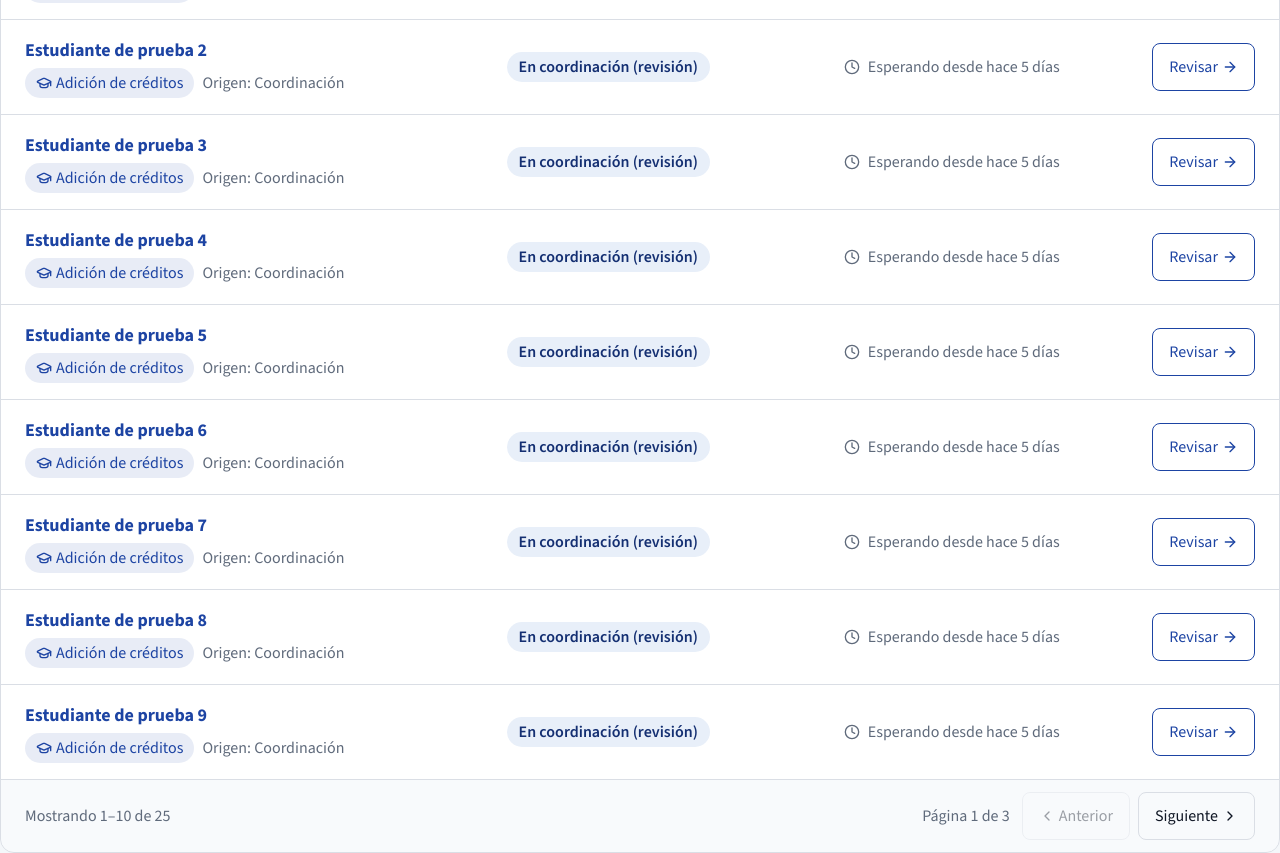
CoordinationInbox › paginación de vista › los controles son botones reales, con type="button", deshabilitados en los extremos
(page scrolled)
Expected: the button "Anterior" is disabled, [1022,792,1130,840]
Step 1. Click the button "Siguiente" → (1196, 816), box [1138,792,1255,840]
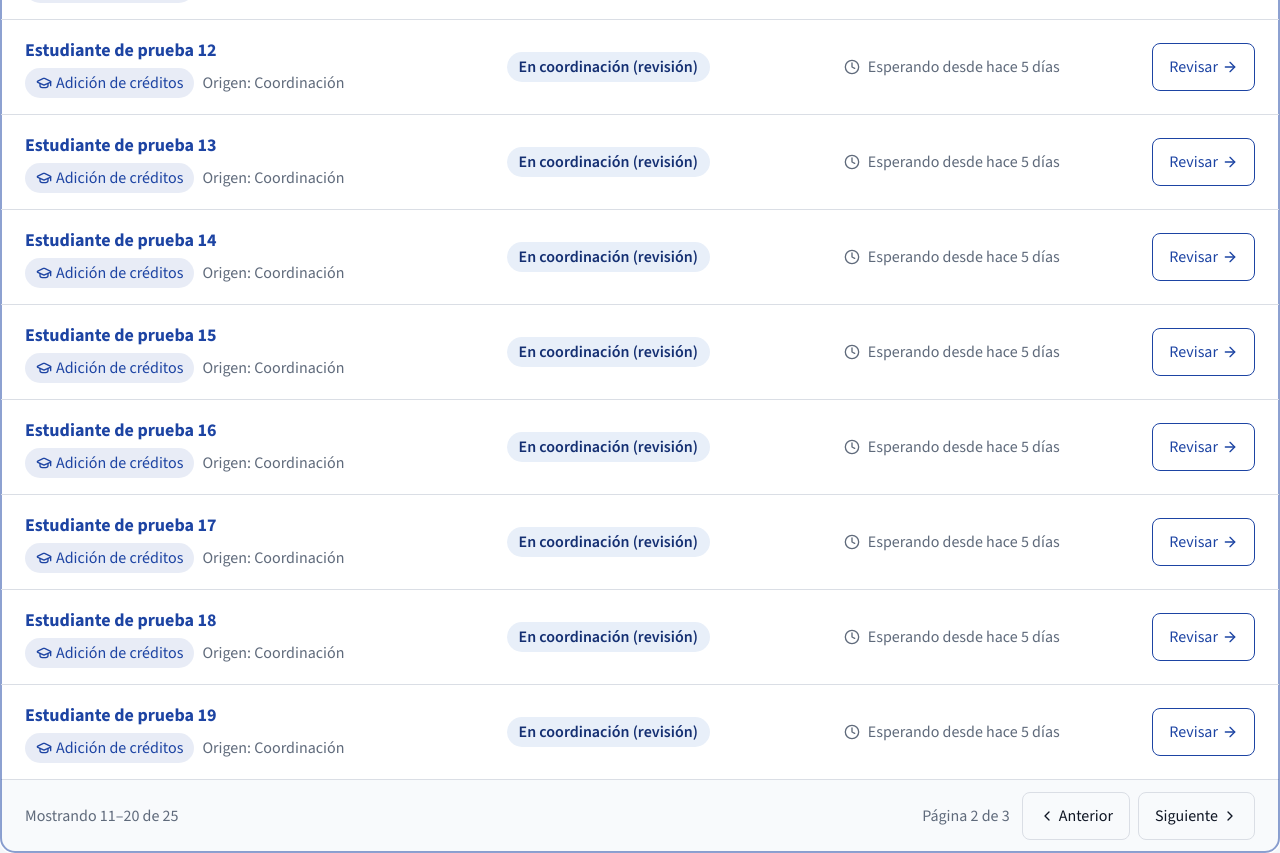
Step 2. Click the button "Siguiente" → (1196, 816), box [1138,792,1255,840]
(page scrolled)
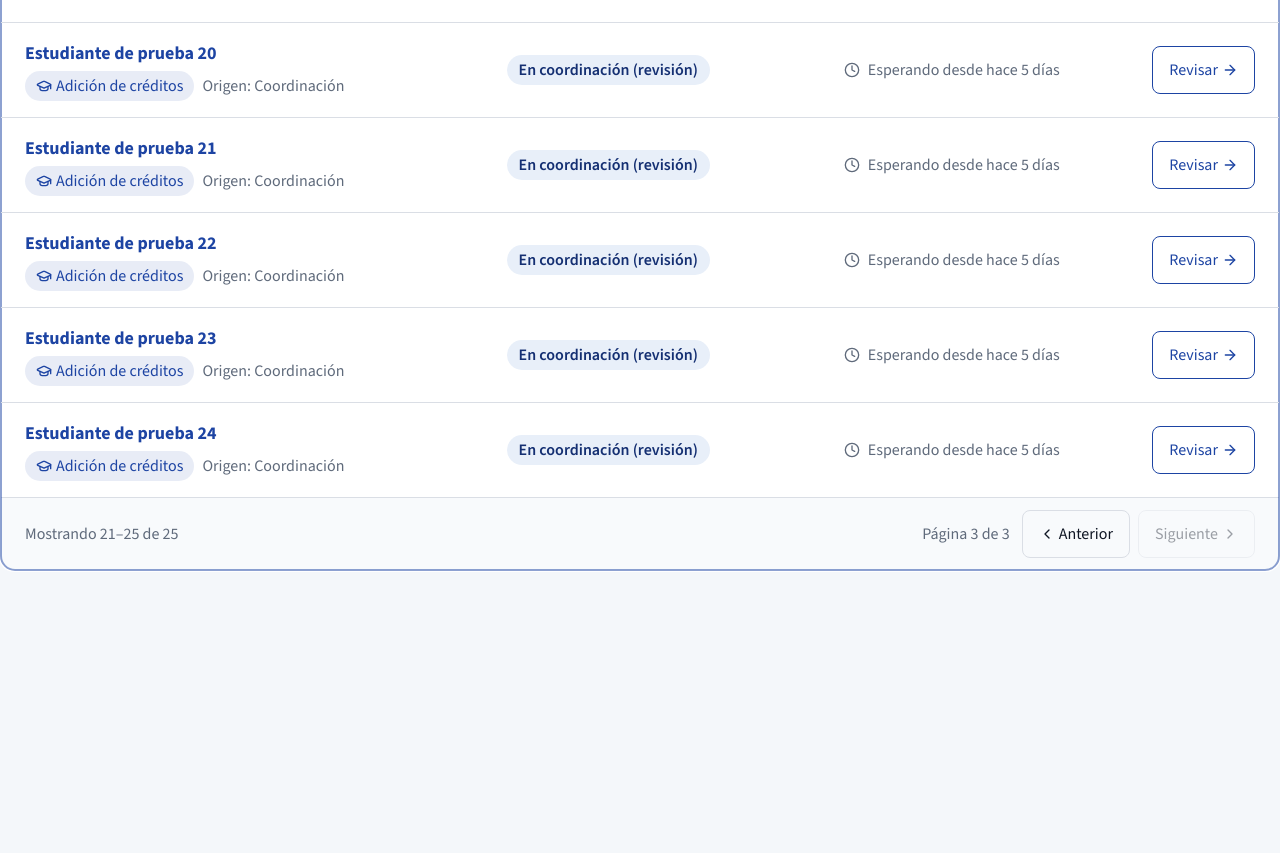
Result: the button "Anterior" is enabled at [1022,510,1130,558]
Result: the button "Siguiente" is disabled at [1138,510,1255,558]
